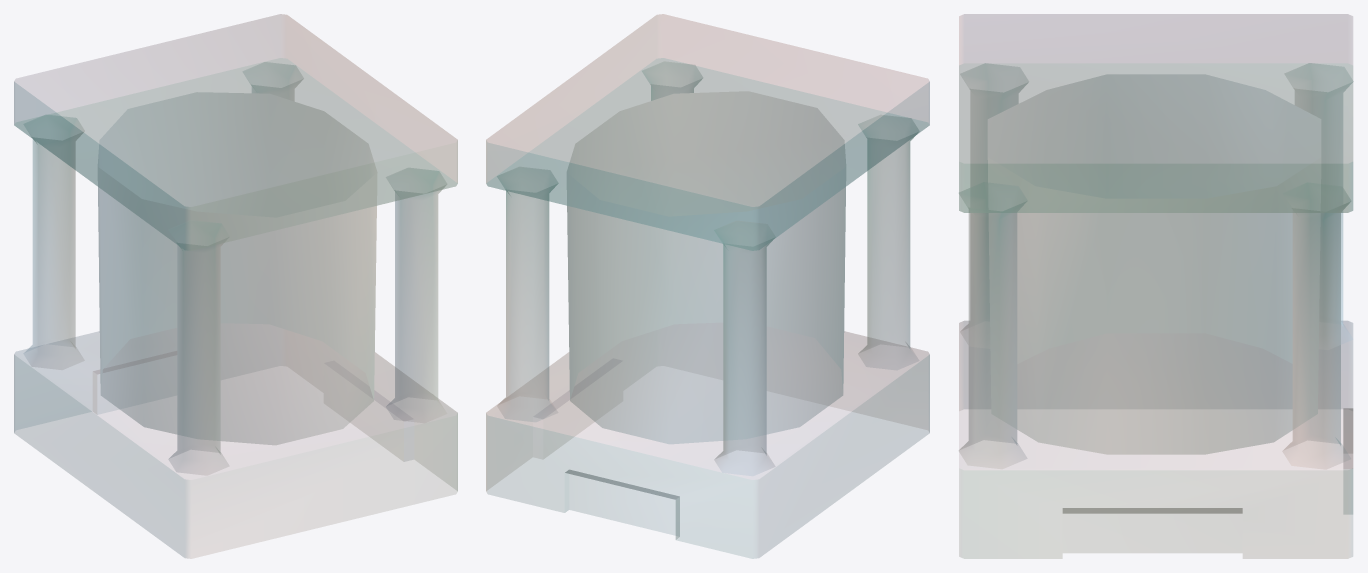
Rendered from CEN_AED1.preview.glb.
The picture shows the model from 3 angles, left to right: view 1: azimuth 30°, elevation 25°; view 2: azimuth 150°, elevation 25°; view 3: azimuth 270°, elevation 25°; orthographic projection. The views are drawn at different scales.
Visible parts, largest first — view 1: obj_1b70, obj_9c0, obj_1f10, obj_1780, obj_2290, obj_450; view 2: obj_1b70, obj_9c0, obj_1f10, obj_1780, obj_2290, obj_450; view 3: obj_1b70, obj_9c0, obj_1f10, obj_2290, obj_1780, obj_450.
Boxes of the visible parts, <box> form: obj_1b70: <box>14,14,457,479</box>; obj_9c0: <box>14,14,457,558</box>; obj_1f10: <box>98,187,376,444</box>; obj_1780: <box>23,62,446,475</box>; obj_2290: <box>98,187,376,399</box>; obj_450: <box>93,370,413,461</box>; obj_1b70: <box>486,14,929,479</box>; obj_9c0: <box>486,14,929,558</box>; obj_1f10: <box>567,187,845,443</box>; obj_1780: <box>497,62,918,475</box>; obj_2290: <box>567,187,845,400</box>; obj_450: <box>533,391,679,538</box>; obj_1b70: <box>959,14,1353,469</box>; obj_9c0: <box>959,14,1352,558</box>; obj_1f10: <box>1017,213,1292,453</box>; obj_2290: <box>1017,213,1292,363</box>; obj_1780: <box>959,63,1353,469</box>; obj_450: <box>1063,408,1352,552</box>.
Size of the model in its own units: 48.22 by 59.34 by 53.82.
